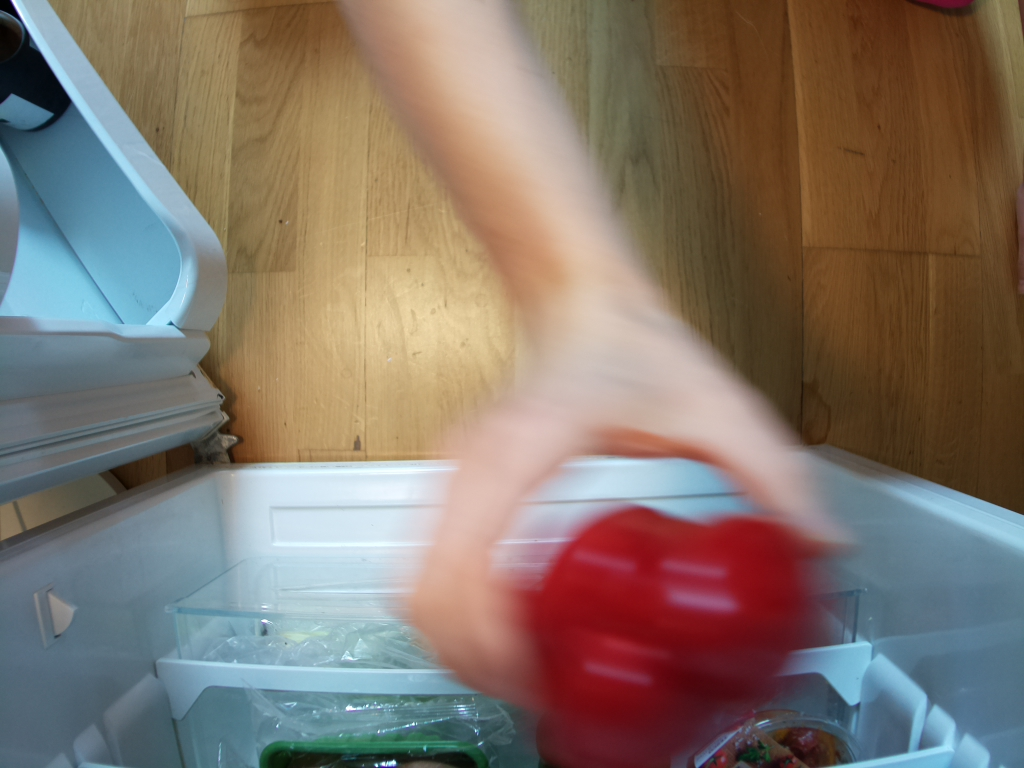pepper: (530, 500, 809, 768)
